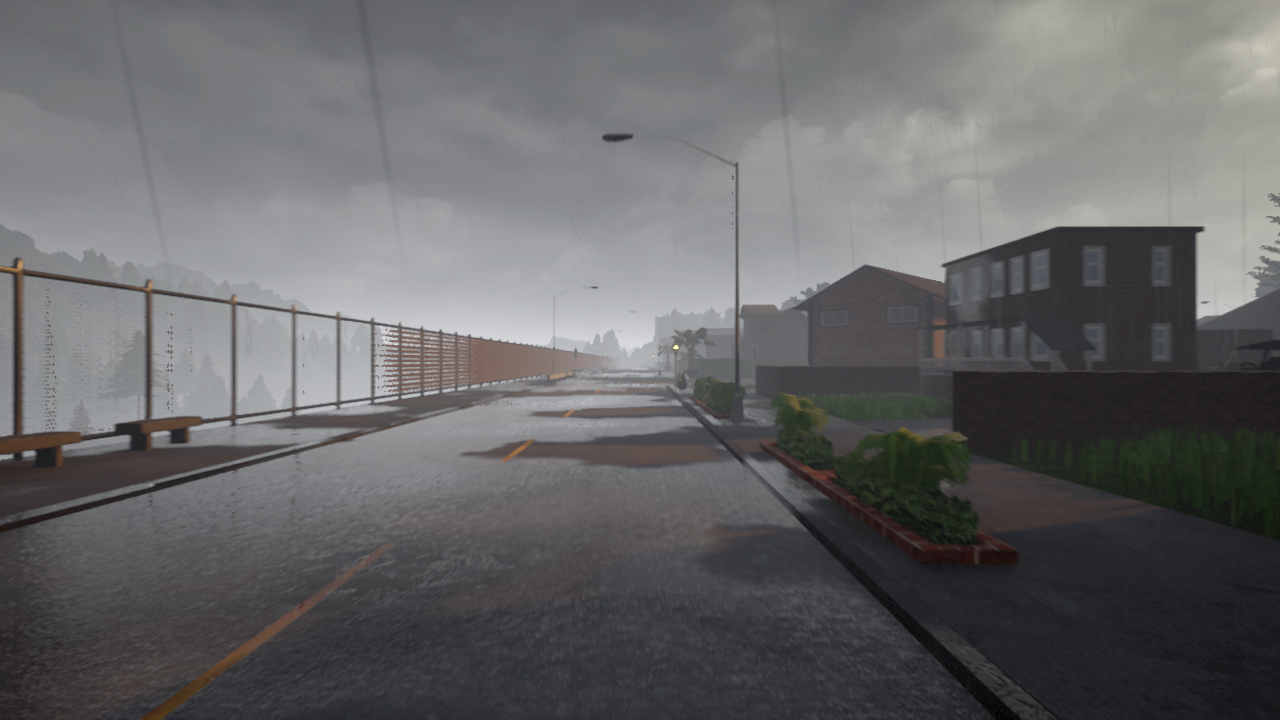yellow: (672, 340, 679, 356)
